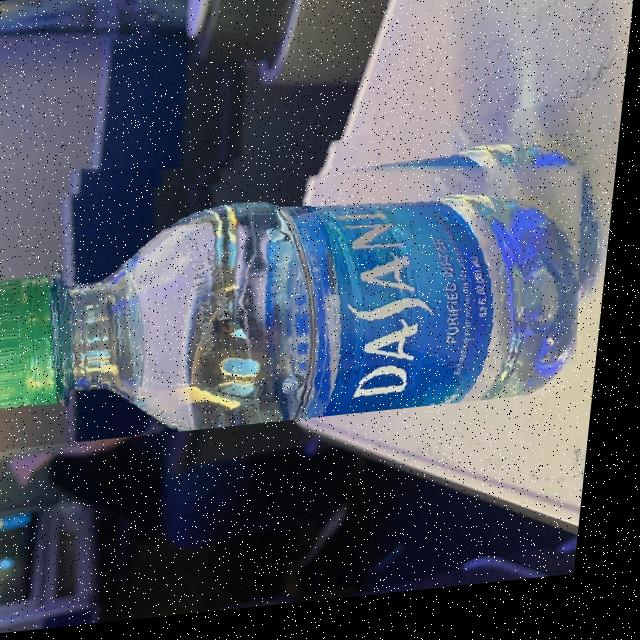plasticbottle: (0, 117, 612, 453)
plasticbottlecap: (0, 212, 117, 421)
